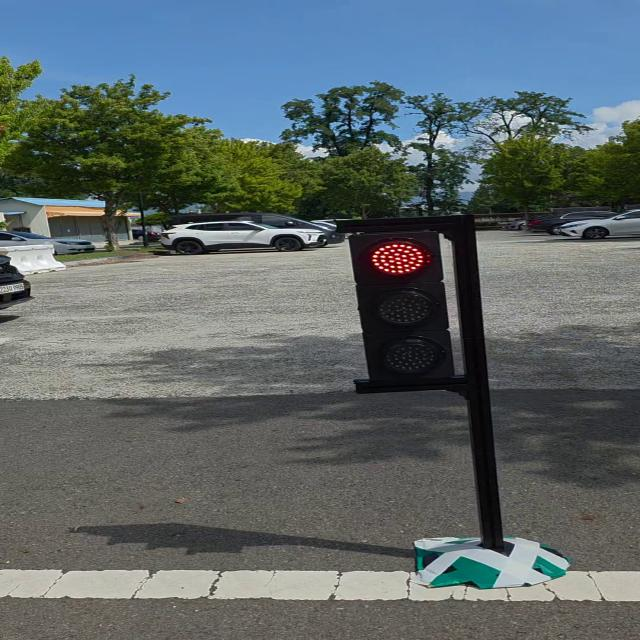red: (327, 229, 480, 385)
